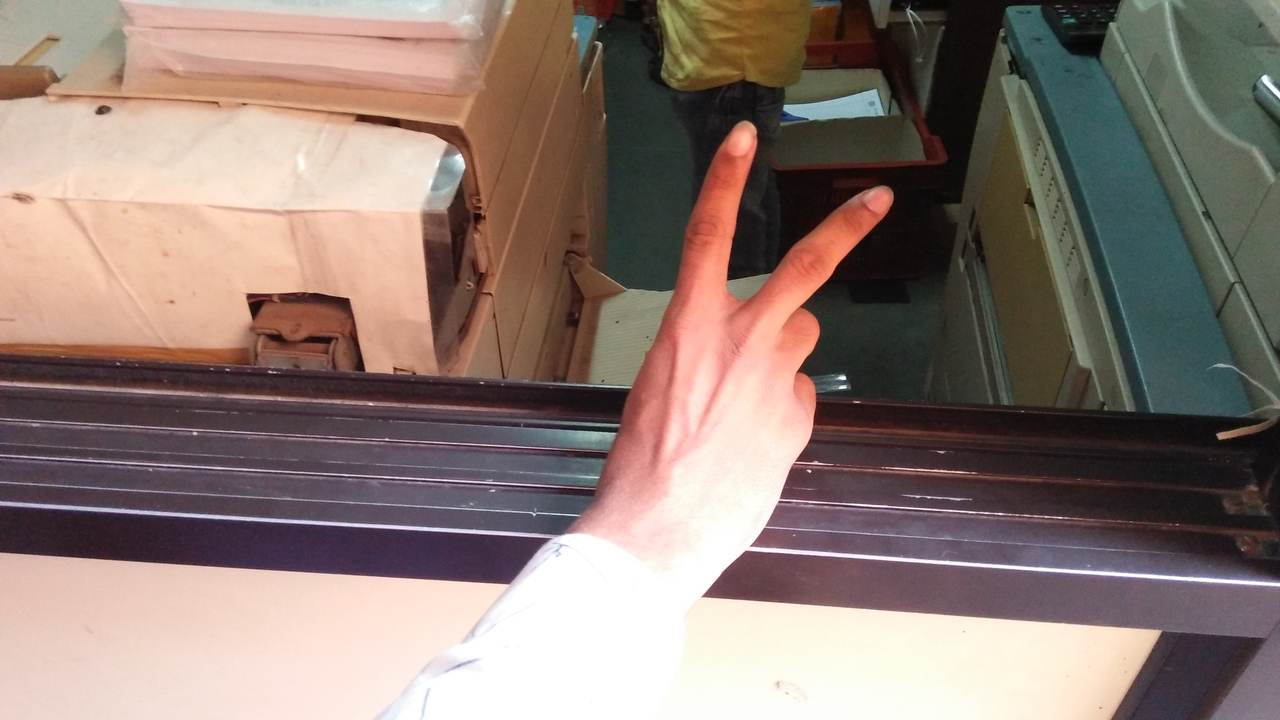fingertip: (708, 110, 766, 166), (834, 174, 894, 224), (422, 140, 464, 186)
